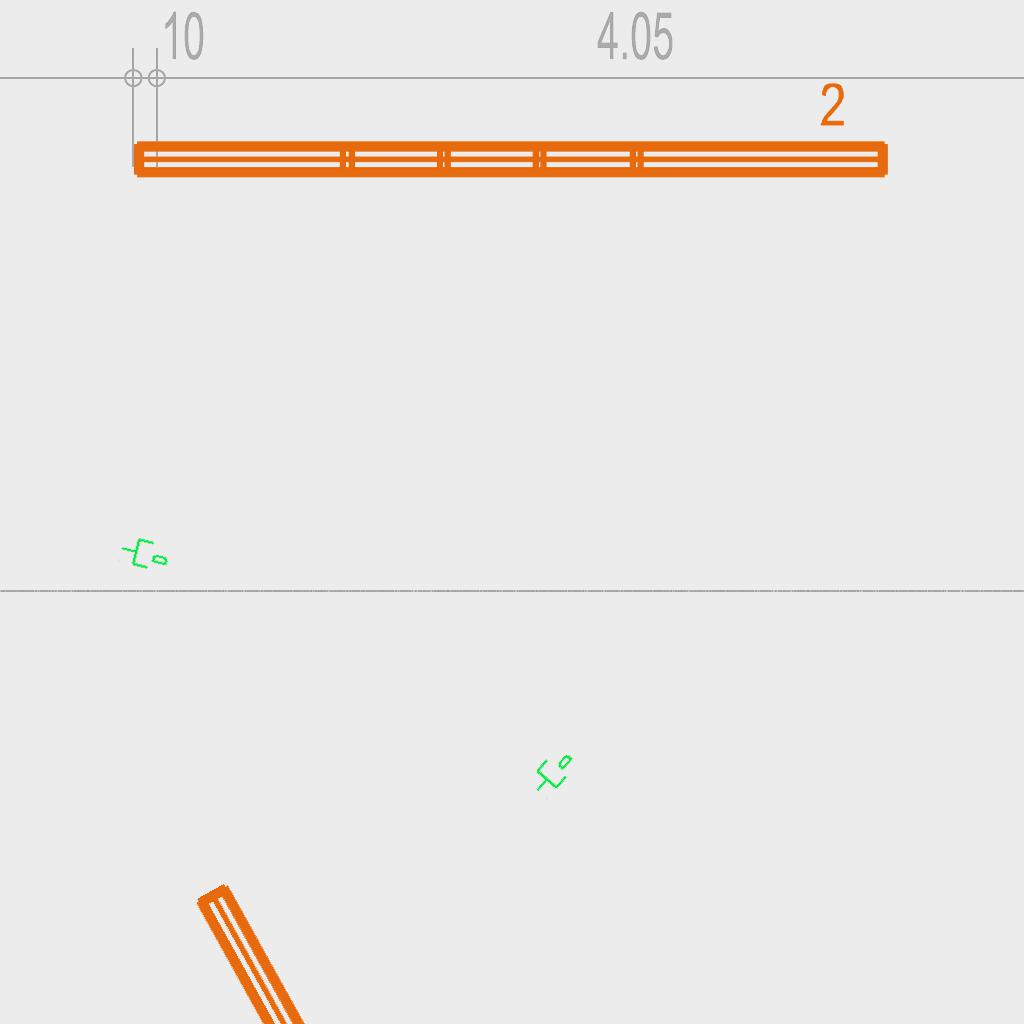Ambulanz_Pendelleuchte_LED: (123, 78, 897, 190), (178, 842, 652, 1024)
Datenanschluss_einfach: (522, 741, 582, 803), (116, 530, 174, 576)
